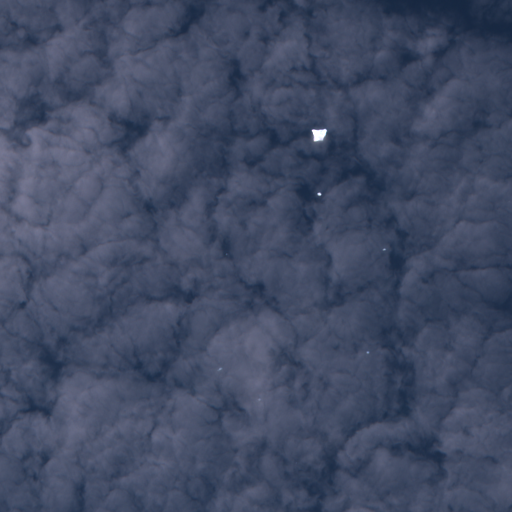Iceberg: (311, 128, 327, 141), (317, 192, 321, 195), (218, 367, 222, 370), (382, 248, 385, 250), (366, 351, 369, 353), (258, 399, 260, 400)
